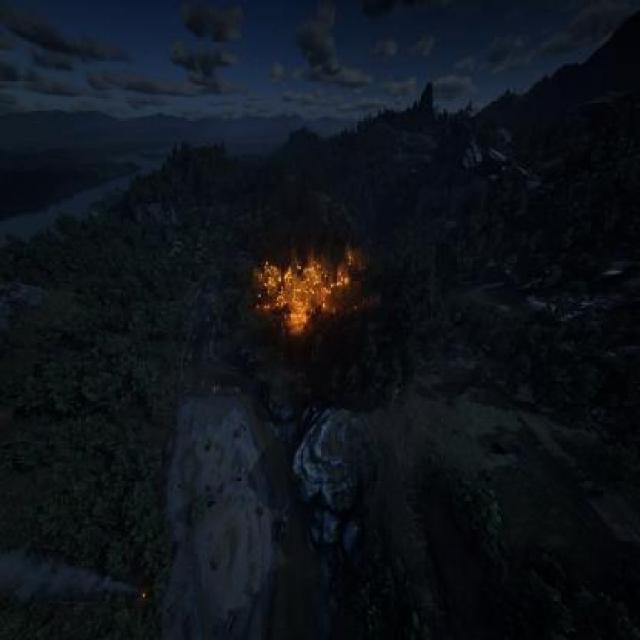Fire: (234, 231, 368, 350)
